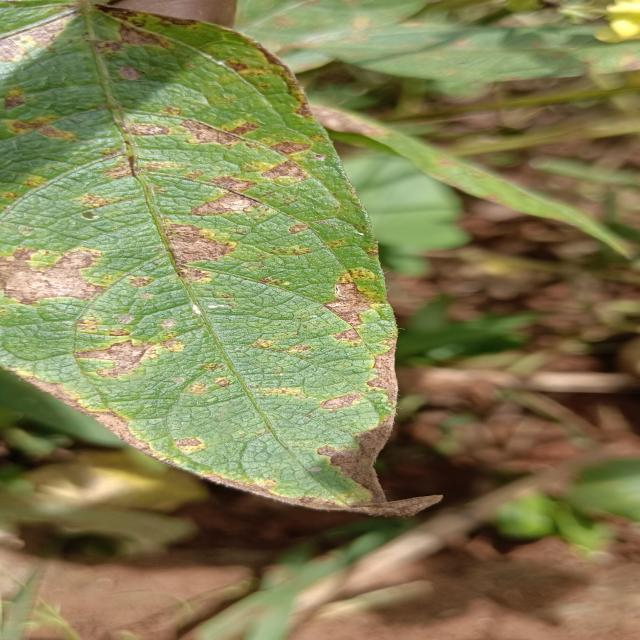Black gram_leaf spot: (0, 0, 453, 521)
